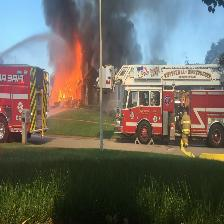fire: (49, 30, 93, 112)
